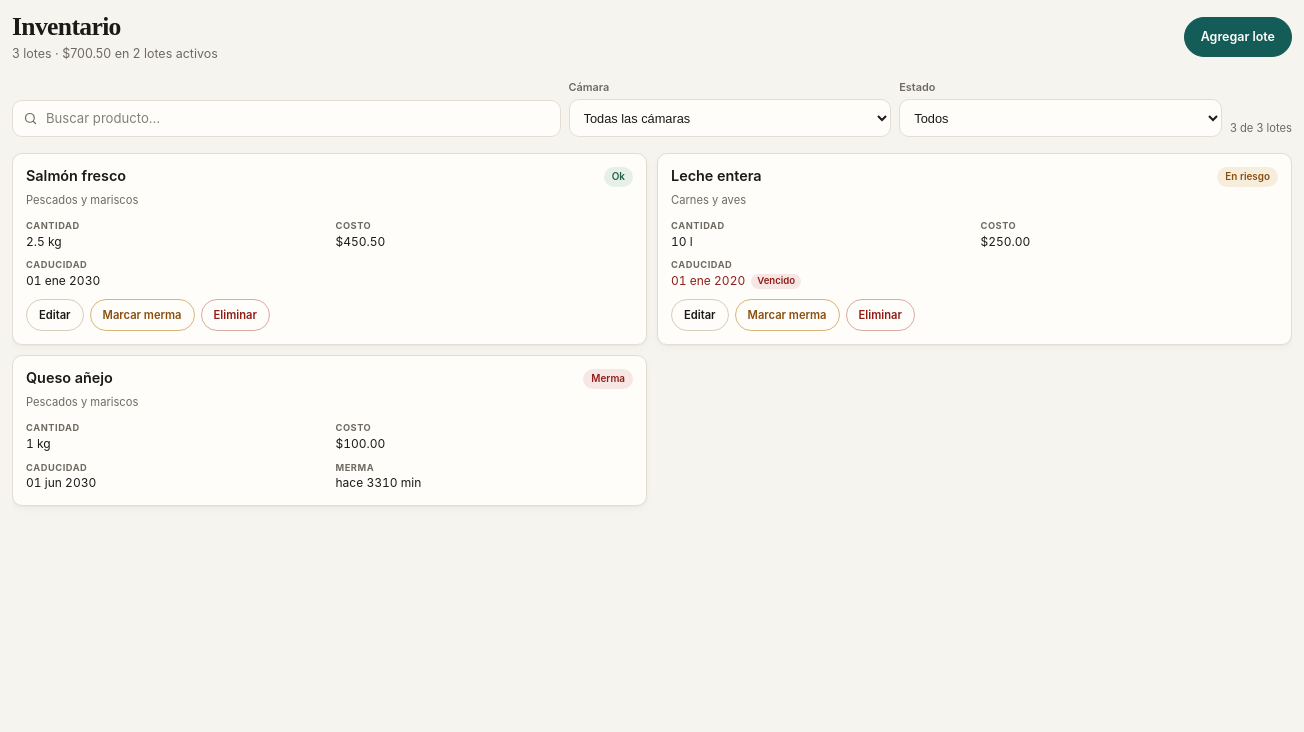
Test: Inventario › filtra por producto, cámara y estado
The image size is (1304, 732).
Expected: the heading "Inventario" is shown, [12, 12, 121, 41]
Expected: the heading "Salmón fresco" is shown, [26, 167, 126, 186]
Step 1. Type "leche" into the search field labelled "Buscar producto" → x=286, y=118, box [12, 100, 561, 137]
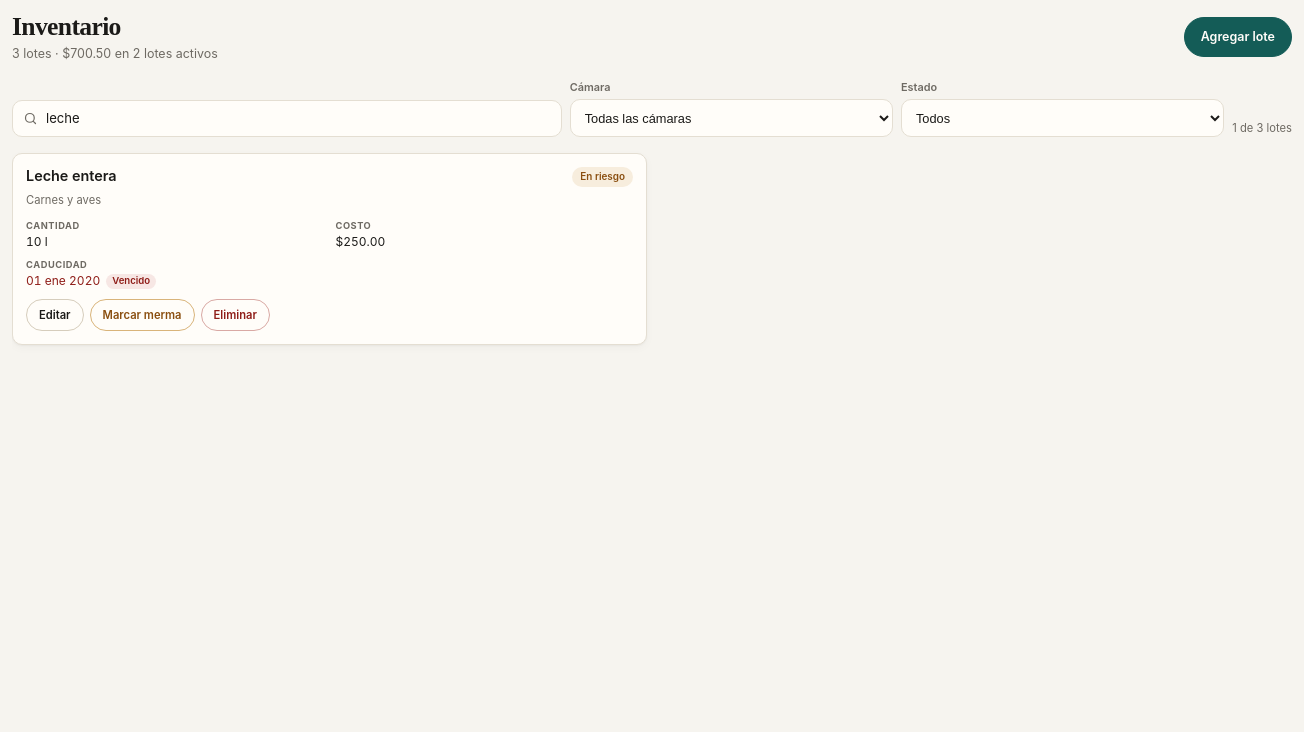
Expected: the heading "Leche entera" is shown, [26, 167, 117, 186]
Expected: the heading "Salmón fresco" is gone
Step 2. Clear the search field named "Buscar producto" → x=287, y=118, box [12, 100, 562, 137]
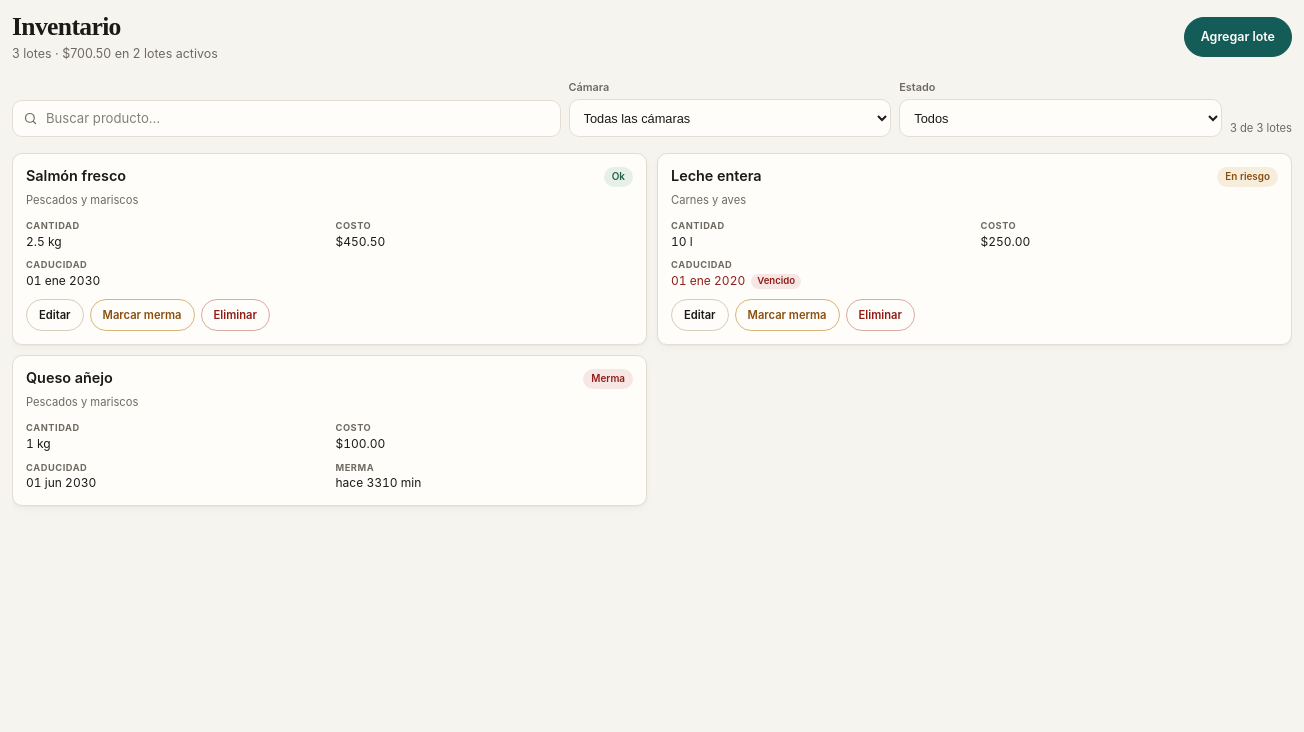
Step 3. Select "Pescados y mariscos" in the dropdown labelled "Cámara" → x=730, y=118, box [569, 99, 891, 137]
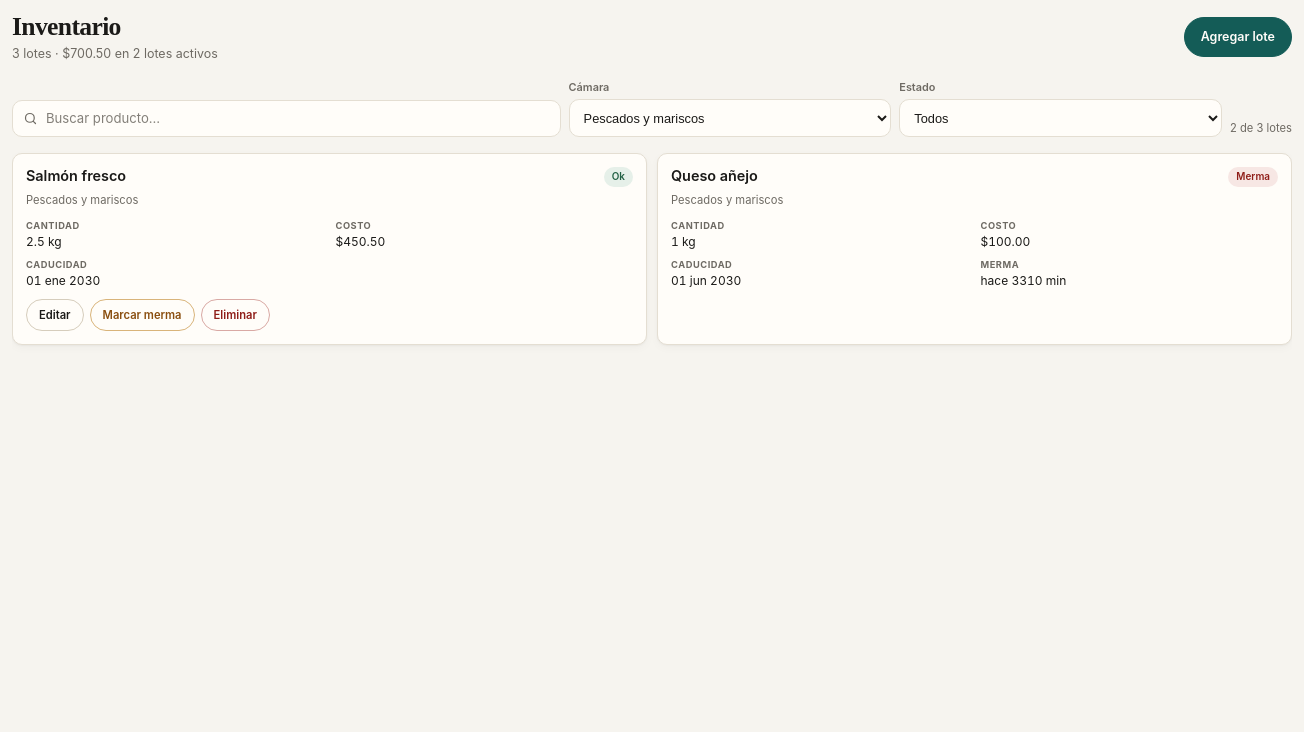
Expected: the heading "Salmón fresco" is shown, [26, 167, 126, 186]
Expected: the heading "Queso añejo" is shown, [671, 167, 758, 186]
Expected: the heading "Leche entera" is gone
Step 4. Select "Merma" in the dropdown labelled "Estado" → x=1061, y=118, box [899, 99, 1222, 137]
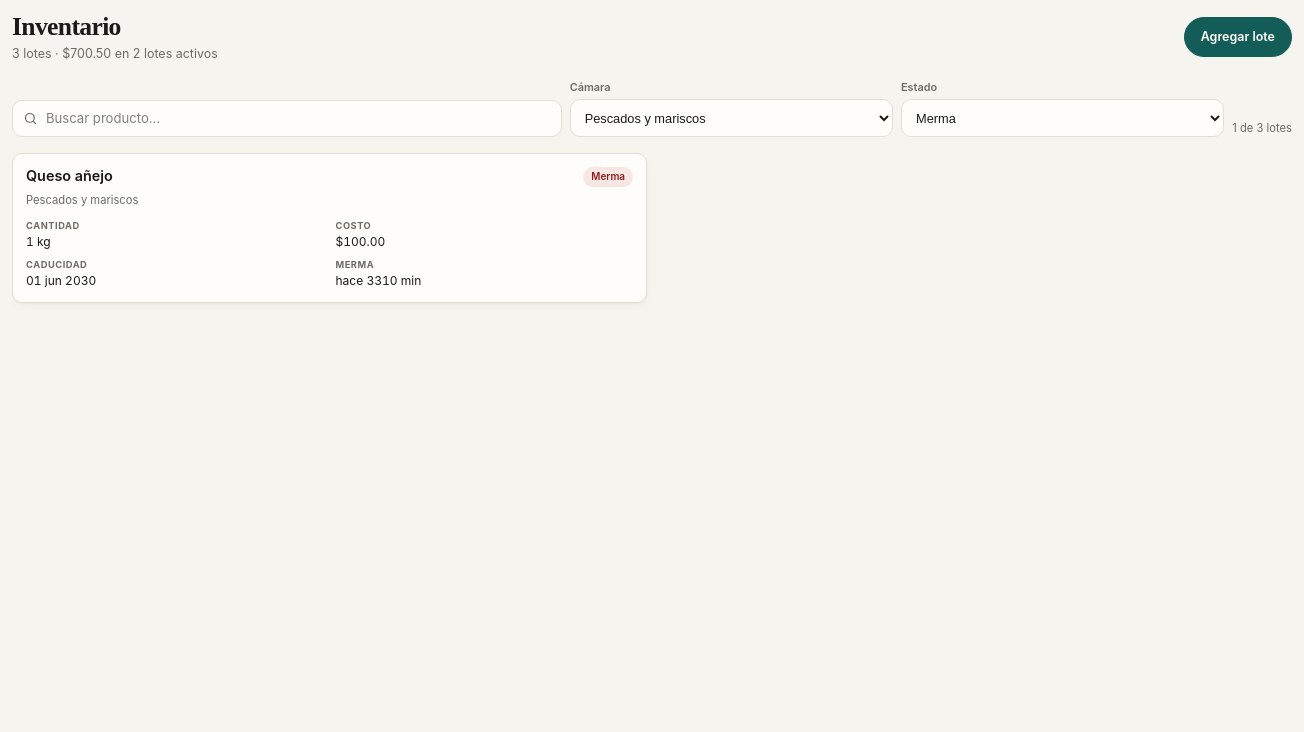
Expected: the heading "Queso añejo" is shown, [26, 167, 113, 186]
Expected: the heading "Salmón fresco" is gone
Step 5. Select "Carnes y aves" in the dropdown labelled "Cámara" → x=731, y=118, box [570, 99, 893, 137]
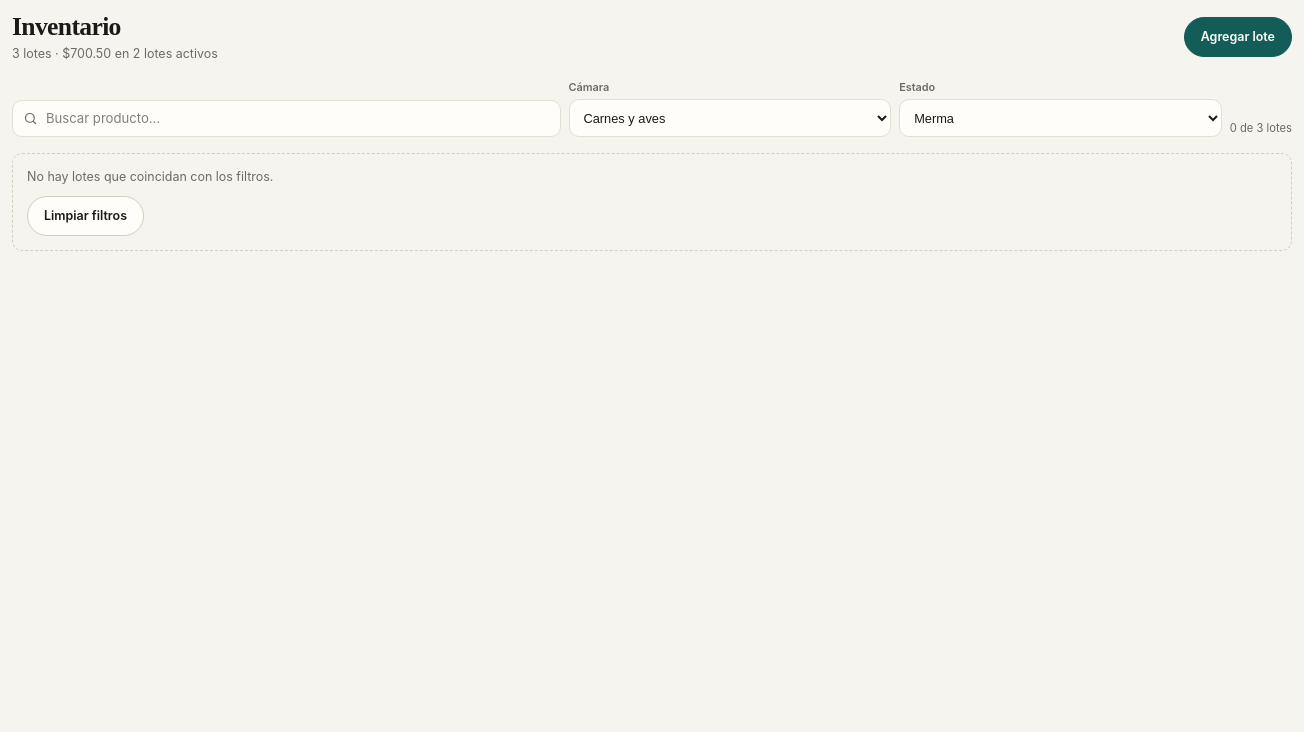
Expected: the text "No hay lotes que coincidan con los filtros." is shown, [27, 168, 273, 186]
